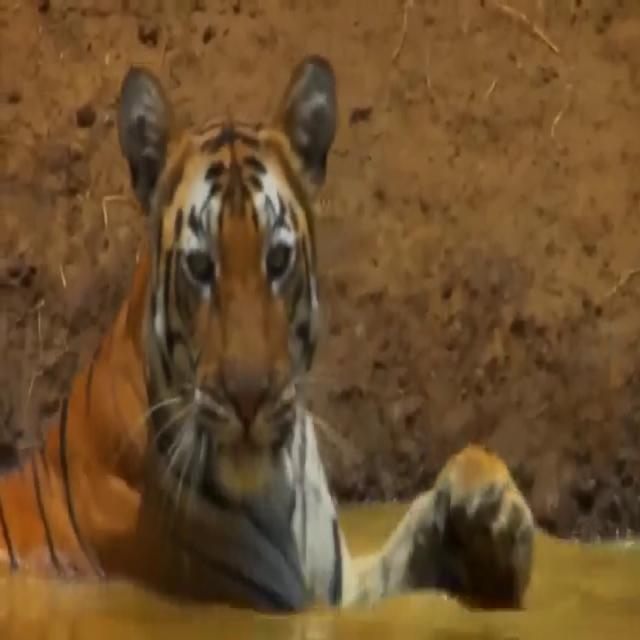tiger: (0, 51, 531, 601)
